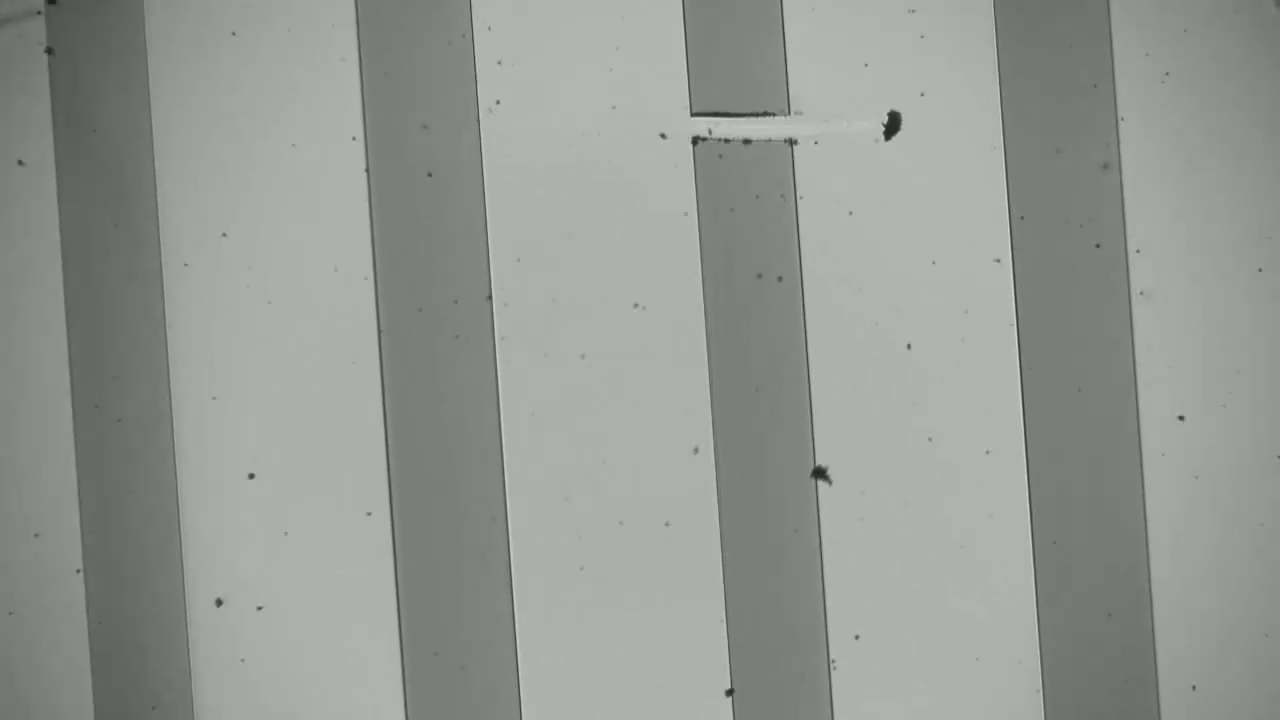Short_circuit: (673, 89, 812, 174)
